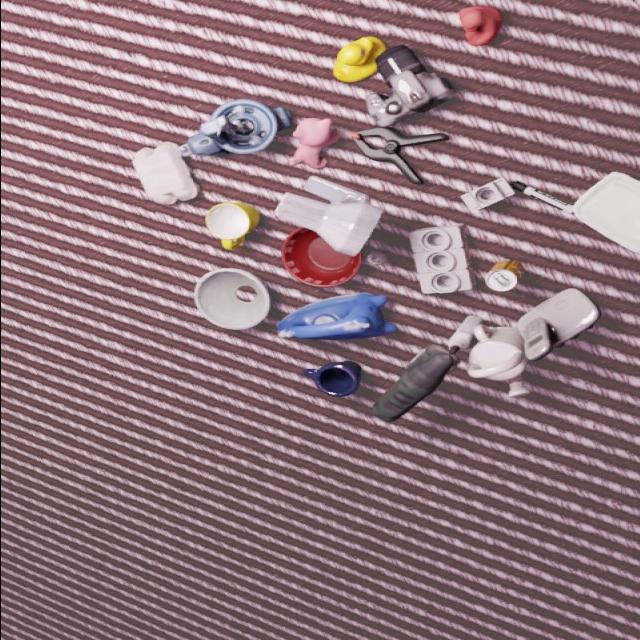Other Objects: (372, 288, 597, 420), (332, 36, 449, 184), (460, 174, 639, 253), (275, 176, 380, 286), (180, 100, 288, 156), (276, 293, 396, 339), (195, 268, 269, 329), (409, 224, 469, 293), (132, 141, 197, 204), (204, 201, 257, 249), (289, 118, 337, 168), (303, 361, 359, 396), (481, 260, 521, 290)
